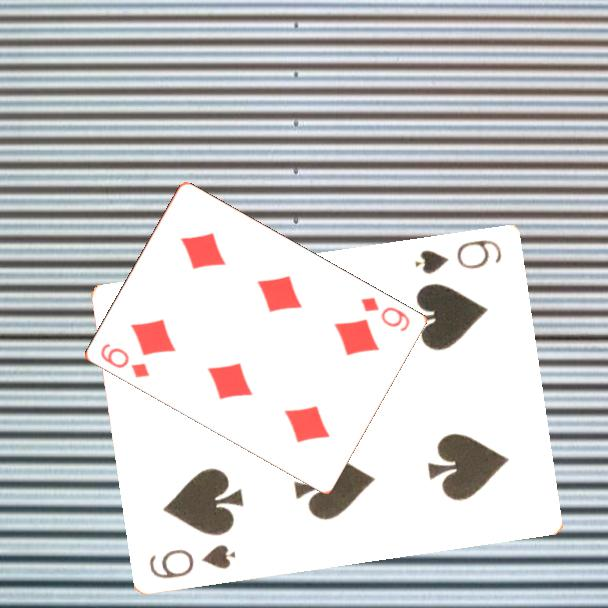d06: (96, 340, 152, 381), (356, 294, 412, 335)
s06: (412, 235, 505, 277), (146, 540, 239, 581)
